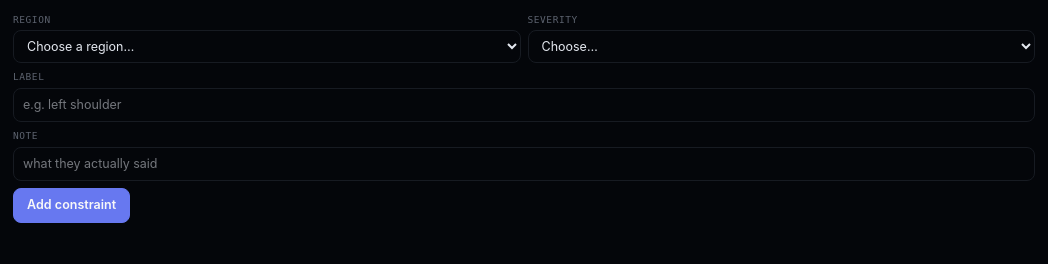
Test: ConstraintForm › reports the server’s own refusal back to the agent
This screenshot has width=1048, height=264.
Select "Shoulder joint" in the dropdown named "region": point(267, 47) [13,30,520,63]
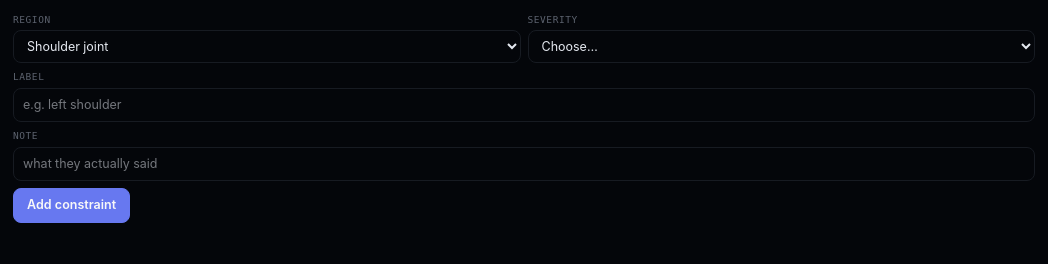
Select "Out — the site is unusable" in the dropdown named "severity": point(781, 47) [528,30,1035,63]
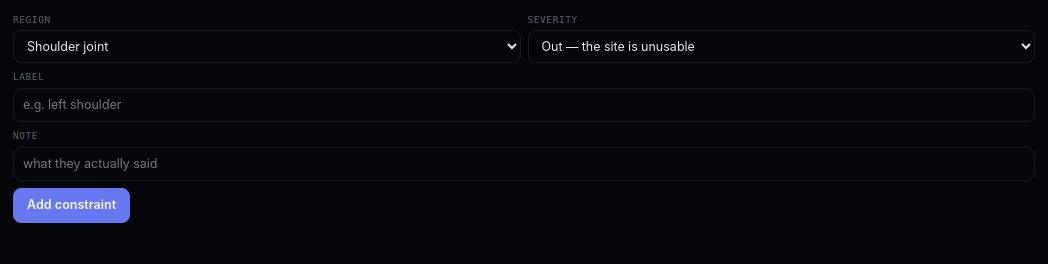
Submit the form
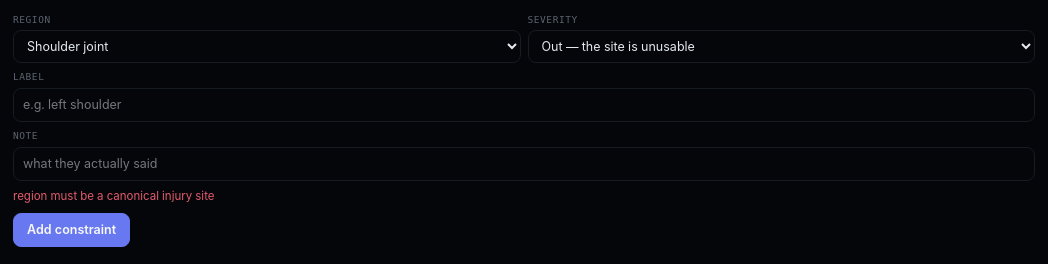
Check: the message reads "region must be a canonical injury site", box [13,189,214,203]
